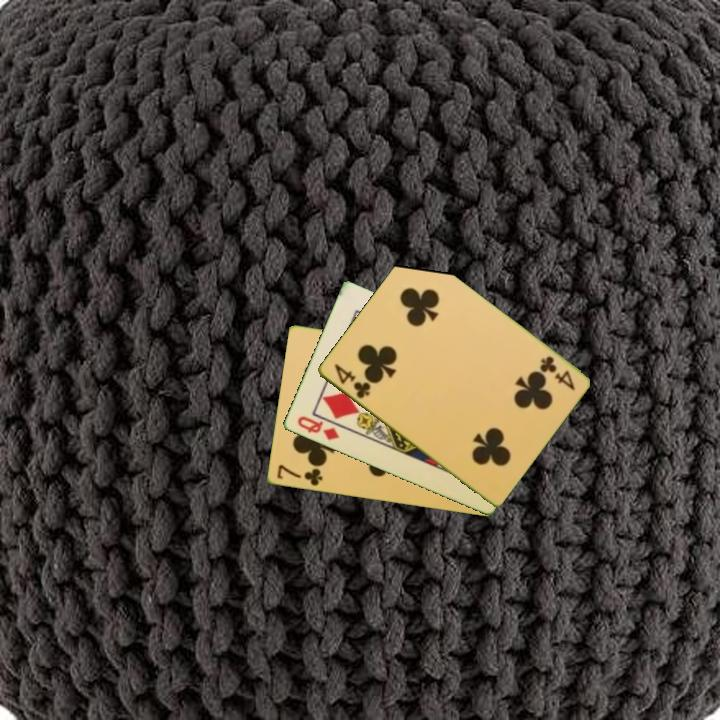4c: (330, 360, 373, 402), (536, 352, 578, 393)
7c: (273, 461, 325, 489)
Qd: (293, 413, 342, 443)
